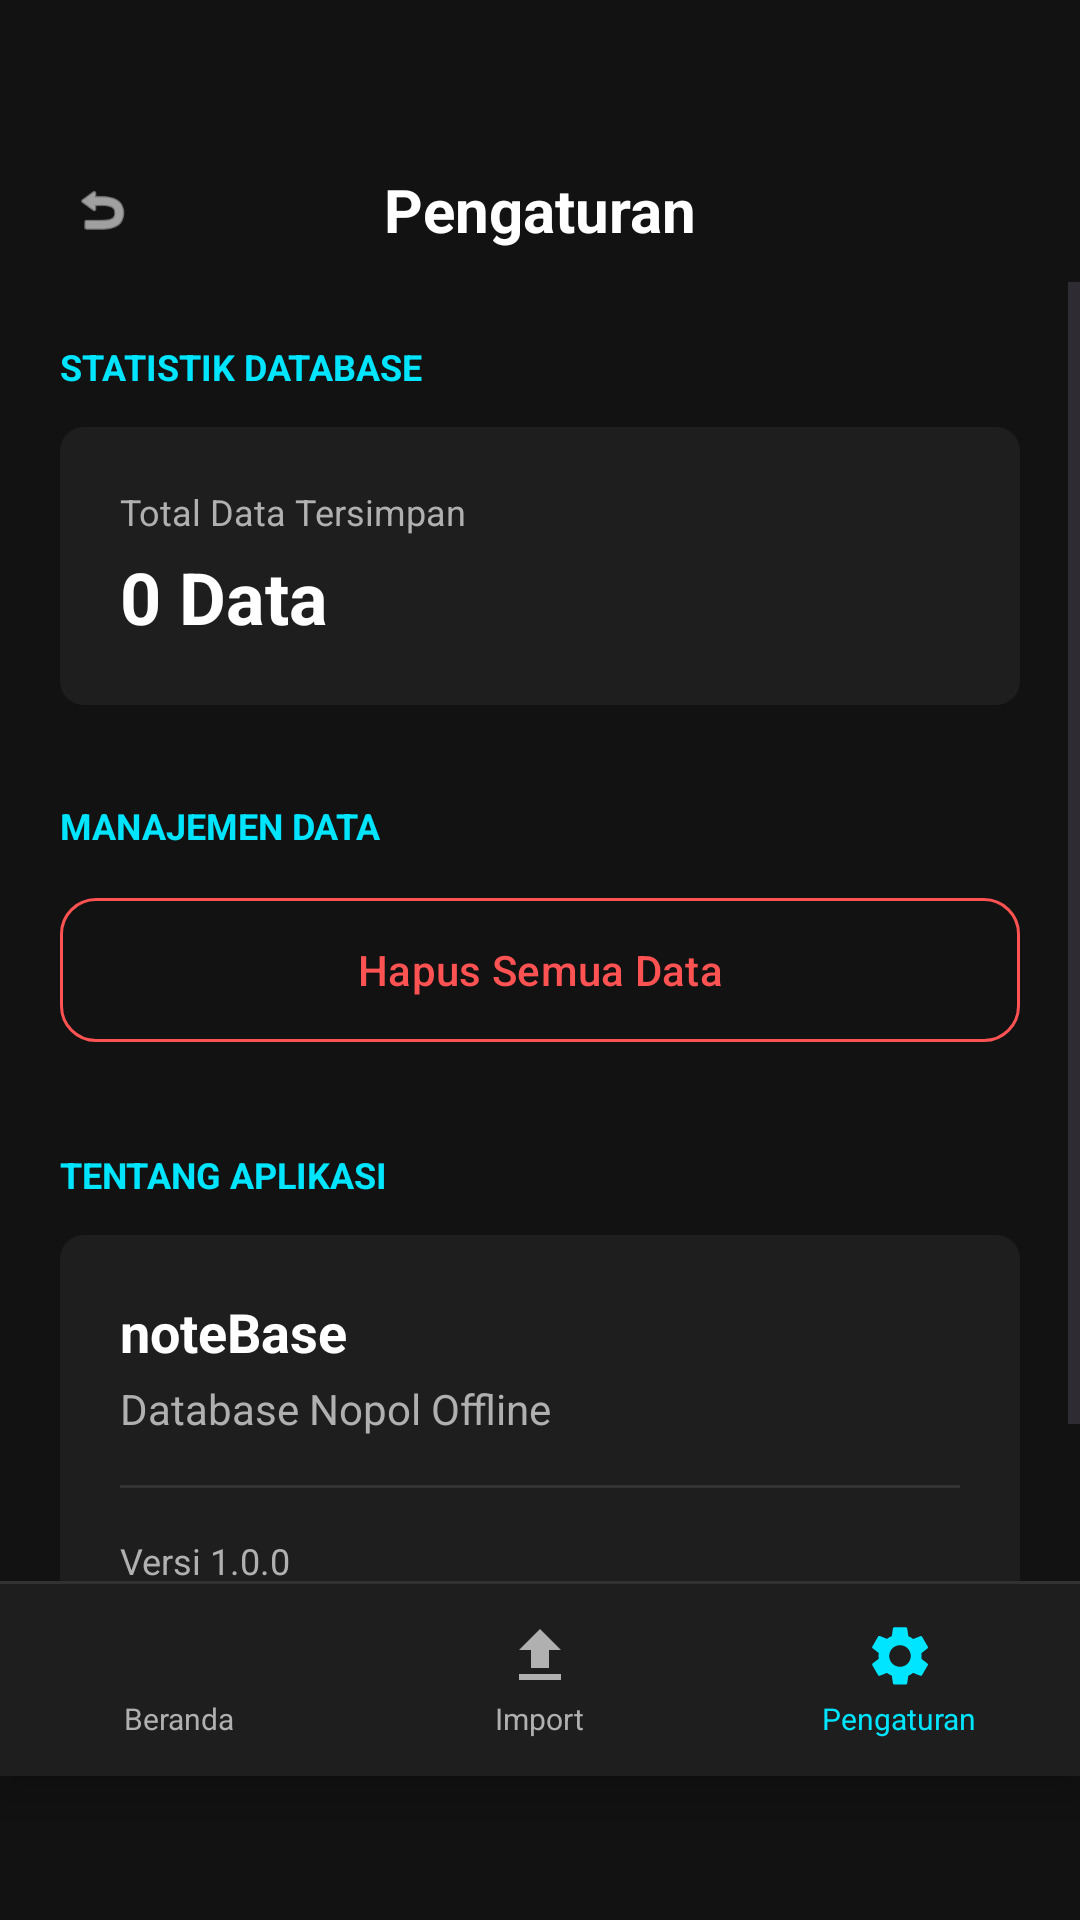

Where to tap for icons on this 1080px×1920px app screen, as (x,y):
revert: (102,210)
